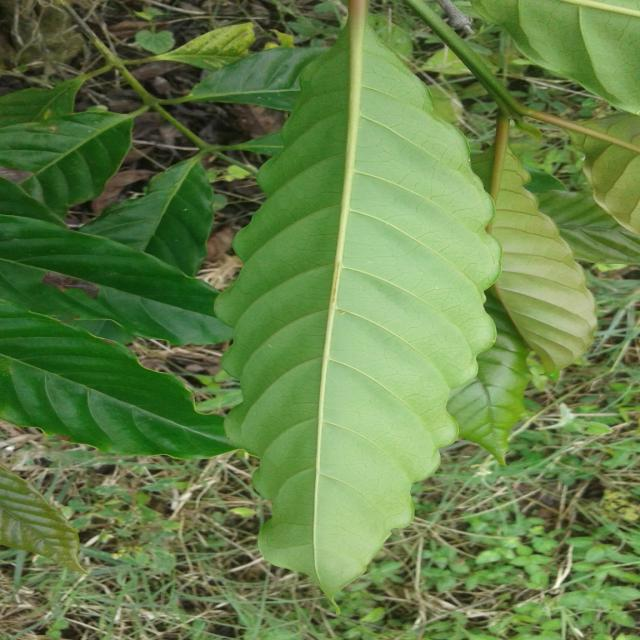Sanas: (217, 0, 500, 593)
